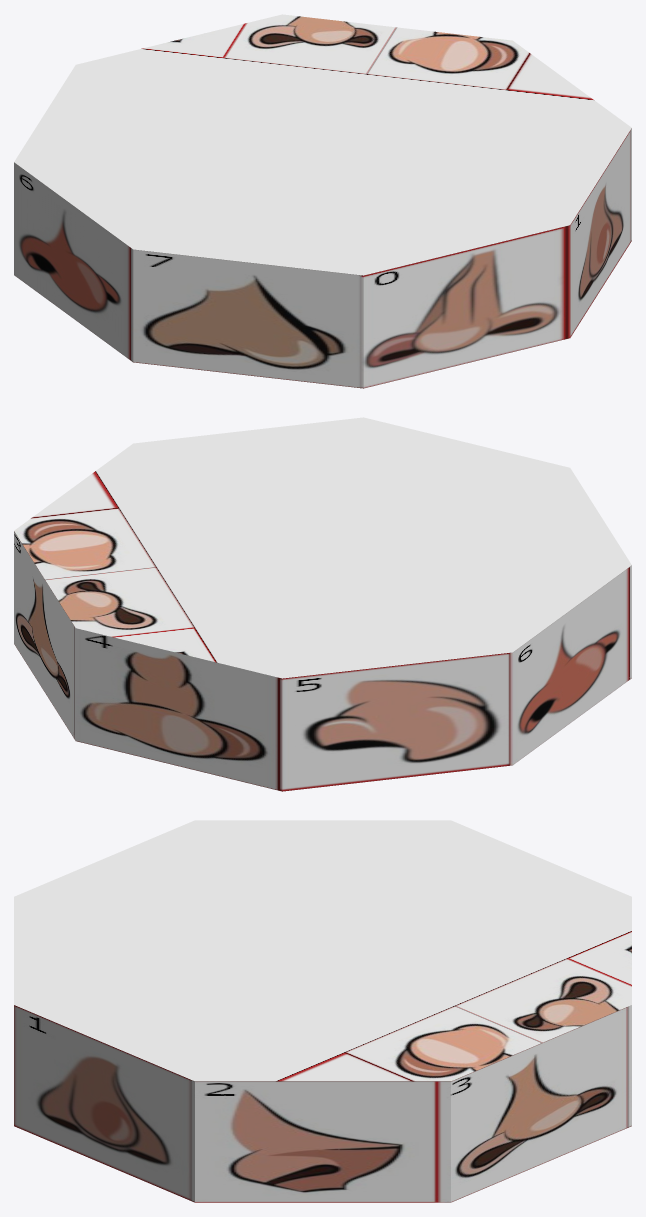
File: noses_rotor_n1.gltf
The picture shows the model from 3 angles, top to bottom: view 1: azimuth 30°, elevation 25°; view 2: azimuth 150°, elevation 25°; view 3: azimuth 270°, elevation 25°; orthographic projection. The views are drawn at different scales.
Parts seen in each view (by area): view 1: rotor_n1.noses; view 2: rotor_n1.noses; view 3: rotor_n1.noses.
Boxes of the visible parts, left/top/right/bottom form: rotor_n1.noses: left=14, top=14, right=631, bottom=388; rotor_n1.noses: left=14, top=417, right=631, bottom=791; rotor_n1.noses: left=14, top=820, right=631, bottom=1202.
Bounding box in the file's own units: 1.85 × 0.4 × 1.85.
1 material, 1 textured.
